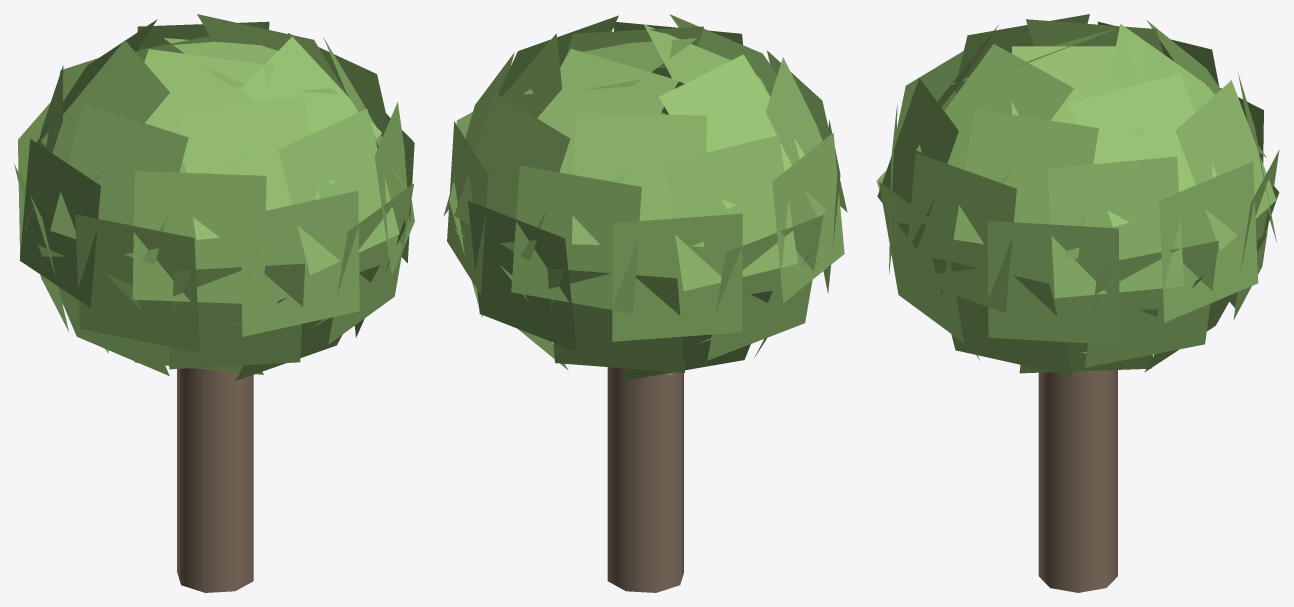
The model's file is asset-card-tree.glb.
3 renders of one model, left to right at view 1: azimuth 30°, elevation 25°; view 2: azimuth 150°, elevation 25°; view 3: azimuth 270°, elevation 25°, orthographic.
Parts seen in each view (by area): view 1: Crown, Trunk; view 2: Crown, Trunk; view 3: Crown, Trunk.
Part boxes in pixels (bbox=[...]): Crown: bbox=[14, 14, 414, 380]; Trunk: bbox=[177, 368, 253, 592]; Crown: bbox=[443, 14, 847, 380]; Trunk: bbox=[607, 367, 683, 592]; Crown: bbox=[876, 14, 1279, 376]; Trunk: bbox=[1038, 370, 1117, 592].
Bounding box in the file's own units: 0.9177 × 1.31 × 0.9129.
